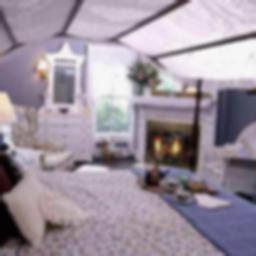Armario: (35, 50, 90, 131)
